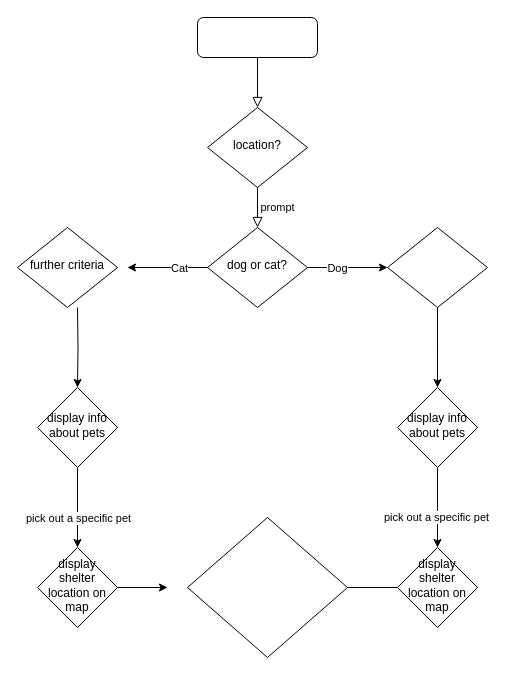
Some shapes in this 506 by 675 pixel diagram are drawn without their labels. The shapes that lost their labels are listed below. From the top down, each one's box as (x1, y1, x2, y2) in pixels, then its label:
(196, 16, 318, 58): User wants pet
(386, 226, 488, 308): further criterai
(186, 516, 348, 658): user is provided with contact information for shelter or rescue
